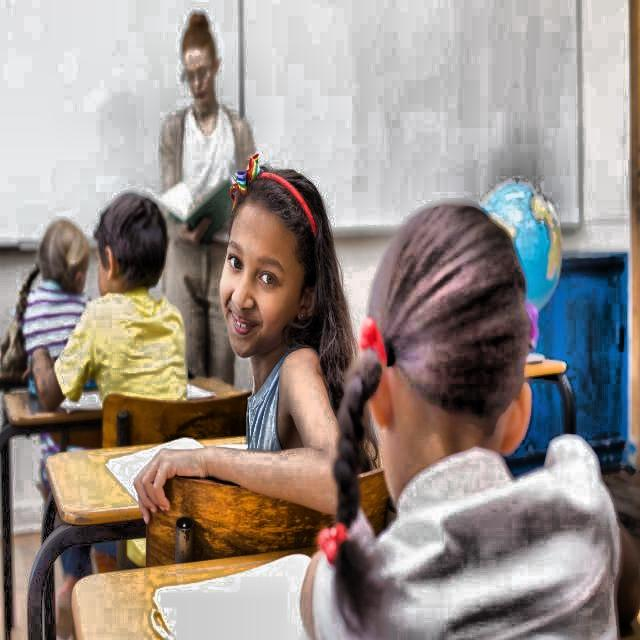person: (348, 208, 632, 626), (198, 162, 352, 558), (166, 16, 262, 388), (72, 178, 206, 420), (10, 212, 98, 430)
